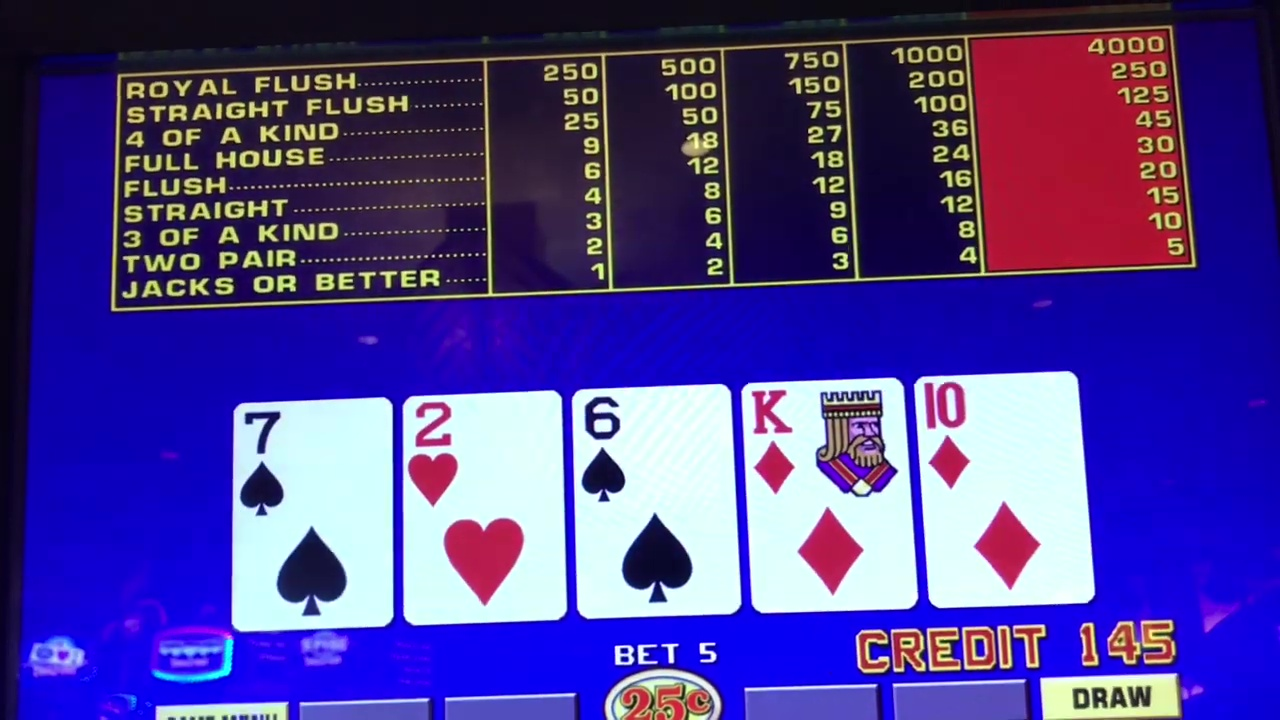DK: (753, 384, 904, 606)
DT: (926, 376, 1084, 604)
H2: (407, 398, 560, 618)
S6: (579, 393, 731, 616)
S7: (241, 406, 385, 624)
